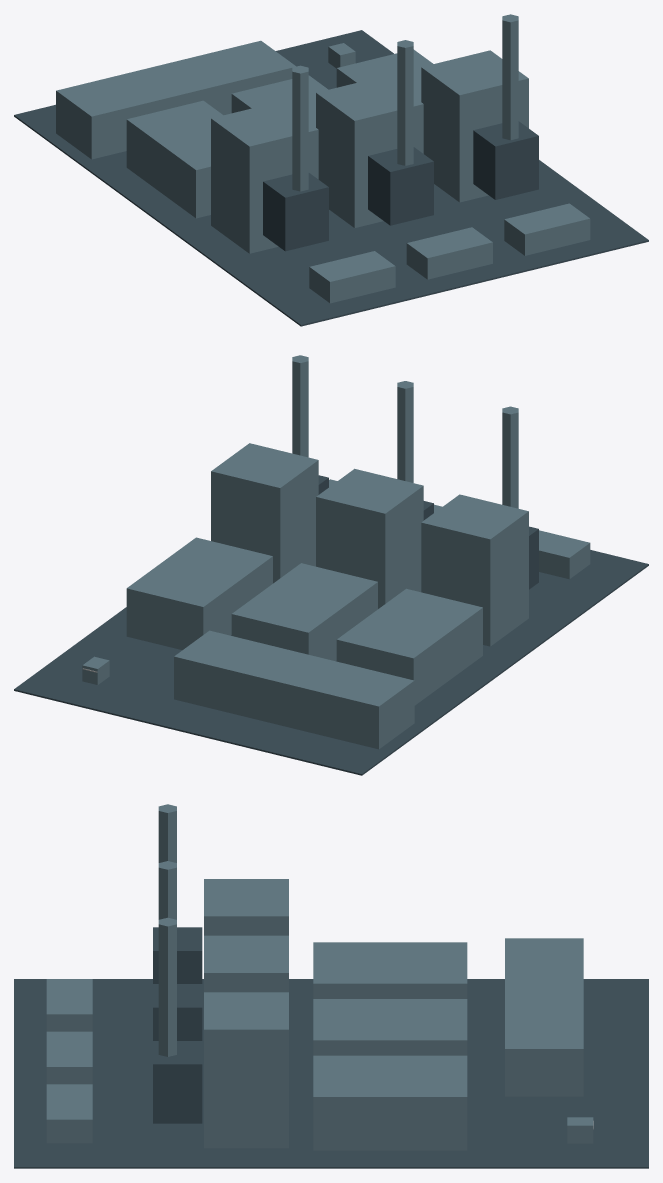
File: natural_gas_plant.lod2.glb
3 views of the same model, one above another, from view 1: azimuth 30°, elevation 25°; view 2: azimuth 150°, elevation 25°; view 3: azimuth 270°, elevation 25° (orthographic). The views are drawn at different scales.
Visible parts, largest first — view 1: natural_gas_plant_graphite_light.002, natural_gas_plant_graphite.002; view 2: natural_gas_plant_graphite_light.002, natural_gas_plant_graphite.002; view 3: natural_gas_plant_graphite_light.002, natural_gas_plant_graphite.002.
Part boxes in pixels (box(x1,y1,x2,y2)): natural_gas_plant_graphite_light.002: box(56, 14, 590, 303); natural_gas_plant_graphite.002: box(14, 30, 648, 326); natural_gas_plant_graphite_light.002: box(82, 355, 590, 749); natural_gas_plant_graphite.002: box(14, 475, 648, 775); natural_gas_plant_graphite_light.002: box(46, 804, 593, 1150); natural_gas_plant_graphite.002: box(14, 927, 648, 1168).
Bounding box in the file's own units: 136 × 70.6 × 194.
